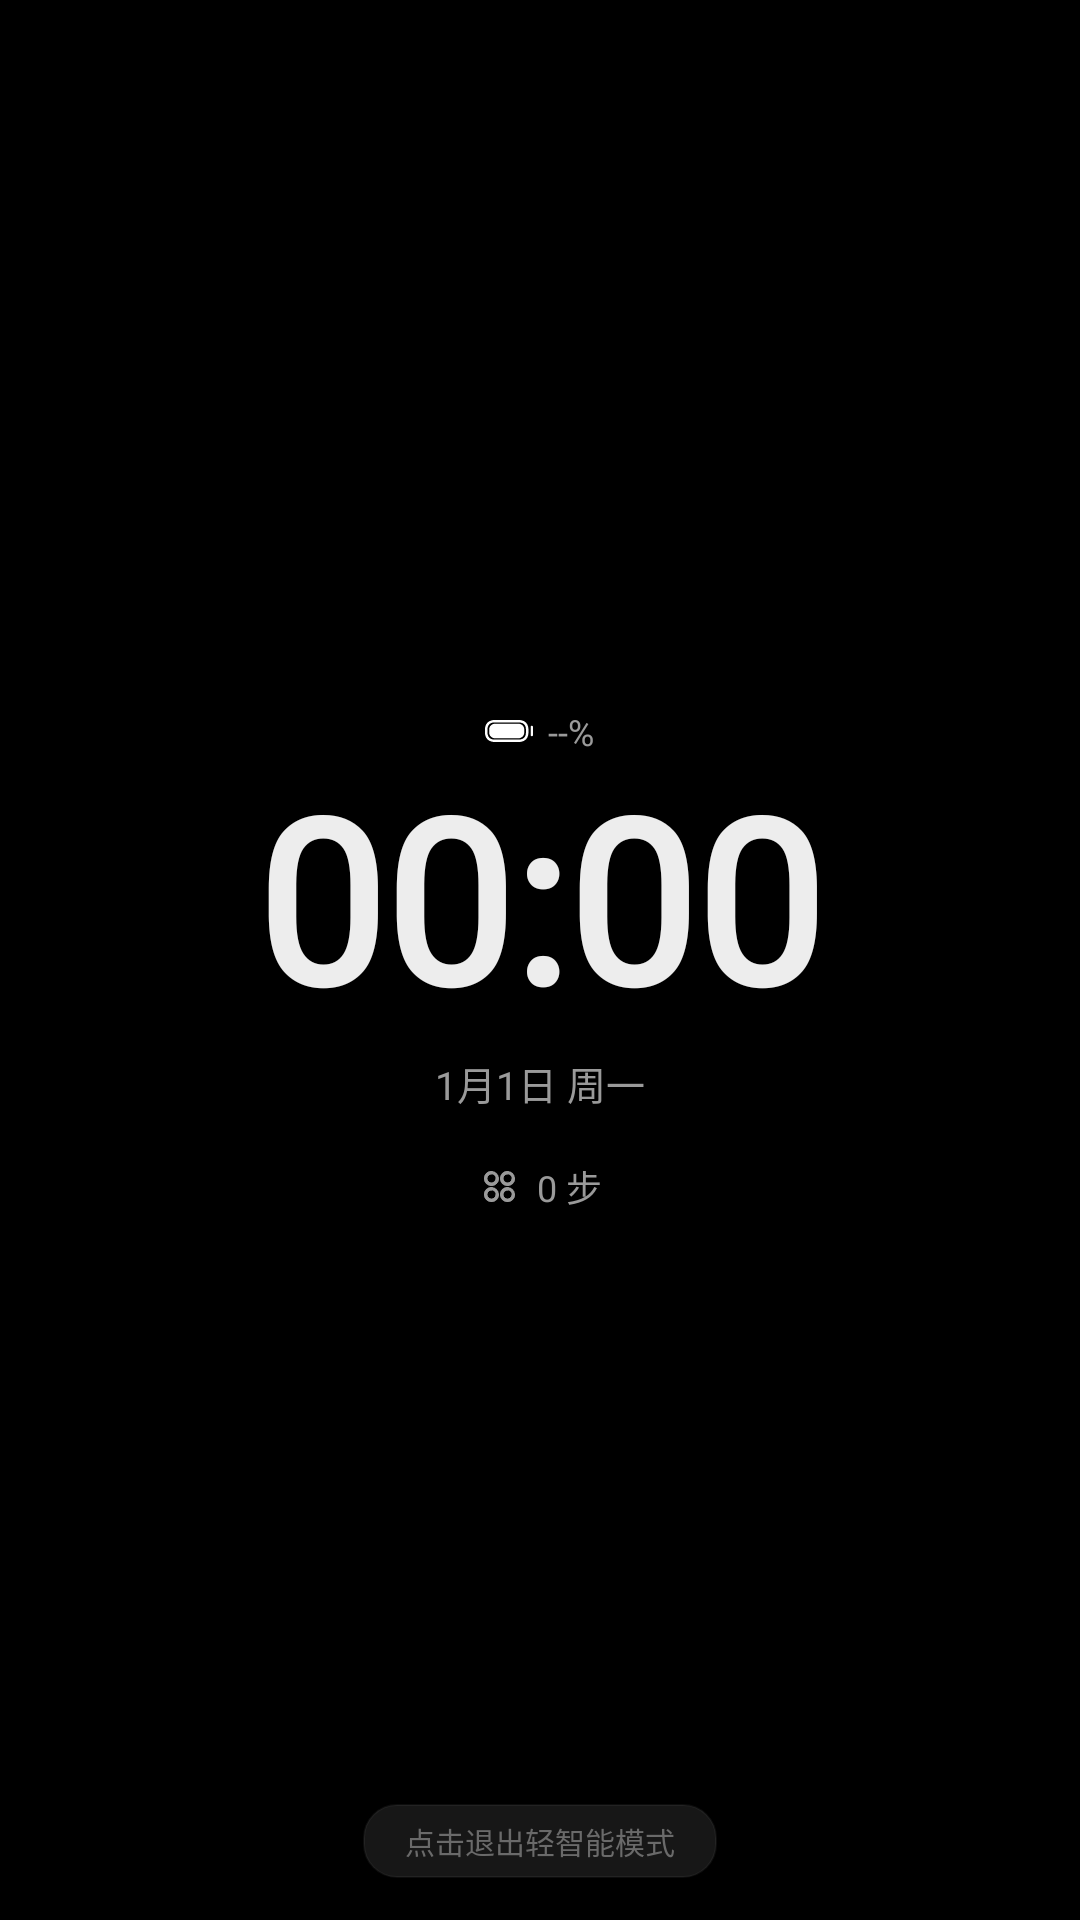

Screen size 1080×1920. Icon name, then its center in pixels as point (x, y):
battery: point (509, 731)
